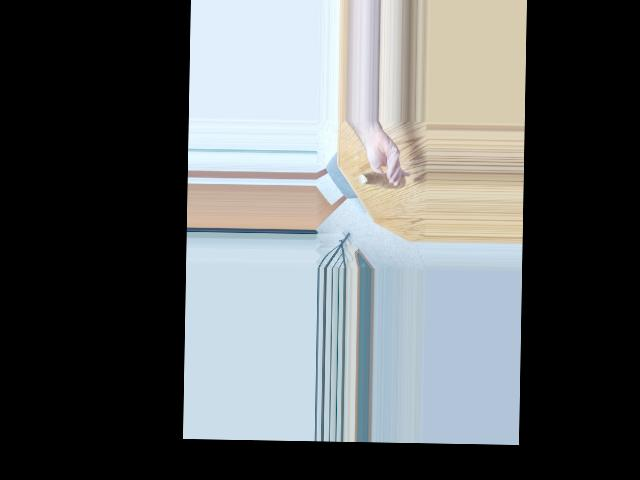sweet_potato: (362, 168, 401, 191)
